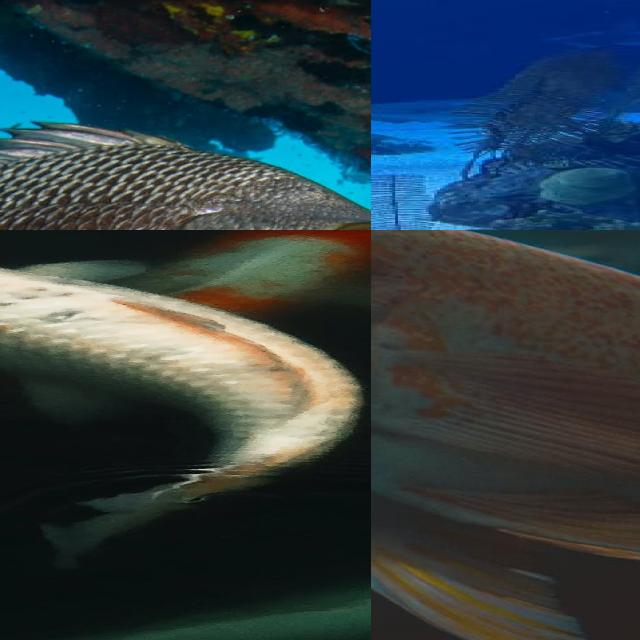fish: (0, 230, 266, 640), (371, 301, 640, 640), (0, 0, 371, 230)
